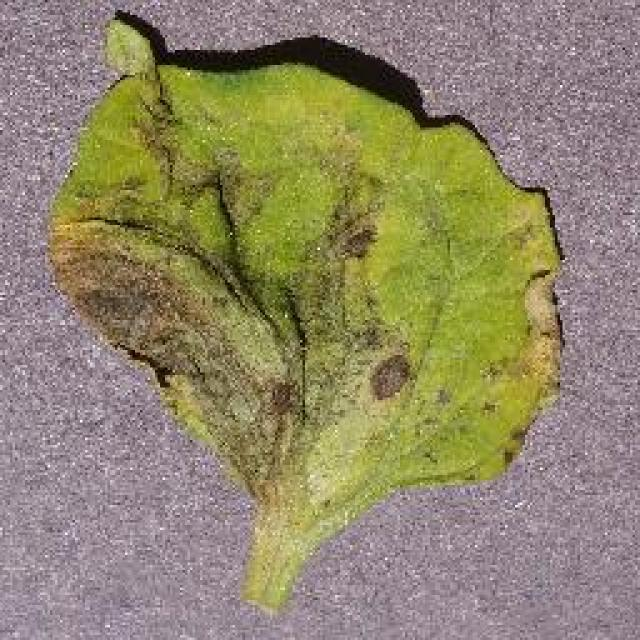Tomato___Septoria_leaf_spot: (50, 20, 558, 608)
